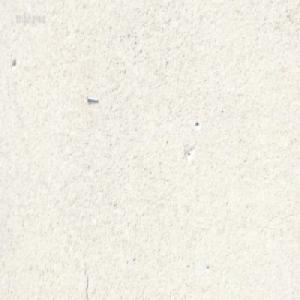Nail: (86, 93, 99, 102)
